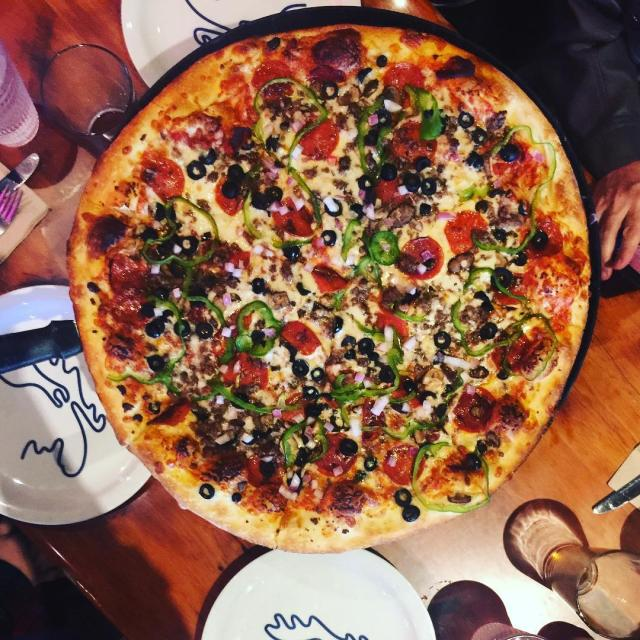black_olives: (391, 484, 420, 524), (220, 162, 248, 199), (253, 184, 282, 212), (230, 125, 257, 154), (489, 265, 520, 290), (426, 328, 454, 353), (177, 233, 202, 256), (142, 317, 167, 340), (257, 456, 278, 482), (356, 167, 376, 193), (187, 158, 208, 182), (340, 336, 358, 363), (502, 140, 524, 162), (526, 231, 547, 253), (321, 196, 343, 217), (280, 244, 303, 264), (185, 285, 206, 306), (172, 315, 190, 339), (291, 356, 308, 381), (319, 80, 336, 105), (355, 66, 375, 87), (195, 319, 214, 341), (423, 173, 440, 197), (378, 162, 398, 182), (292, 445, 309, 468), (323, 313, 342, 333), (356, 337, 376, 356), (201, 144, 218, 166), (457, 108, 475, 128), (146, 350, 164, 370), (300, 402, 318, 422), (341, 436, 358, 457), (467, 150, 484, 171), (322, 229, 340, 248), (350, 203, 368, 222), (168, 259, 186, 278), (471, 126, 488, 146), (238, 430, 258, 447), (302, 384, 320, 402), (310, 364, 326, 384), (250, 273, 266, 293), (404, 173, 421, 191), (196, 482, 214, 498), (374, 53, 390, 71), (146, 398, 161, 415), (248, 328, 262, 344), (366, 453, 377, 472)
pepperoni: (449, 382, 498, 433), (382, 60, 430, 108), (299, 113, 342, 163), (278, 195, 321, 242), (107, 252, 154, 295), (142, 156, 187, 199), (386, 442, 428, 488), (394, 121, 436, 166), (400, 237, 442, 281), (310, 254, 352, 296), (311, 434, 353, 475), (280, 314, 321, 356), (444, 209, 484, 252), (492, 329, 532, 372), (223, 352, 269, 389), (214, 174, 245, 219)
peppers: (444, 265, 532, 359), (246, 167, 333, 247), (251, 74, 326, 166), (412, 438, 493, 515), (142, 197, 223, 270), (486, 129, 556, 202), (132, 296, 184, 392), (499, 311, 564, 385), (328, 346, 407, 406), (183, 386, 282, 422), (230, 299, 286, 357), (358, 87, 381, 181), (407, 84, 445, 138), (184, 298, 226, 344), (368, 228, 400, 268), (349, 254, 383, 285), (341, 220, 362, 260)
pizza: (67, 10, 594, 558)
